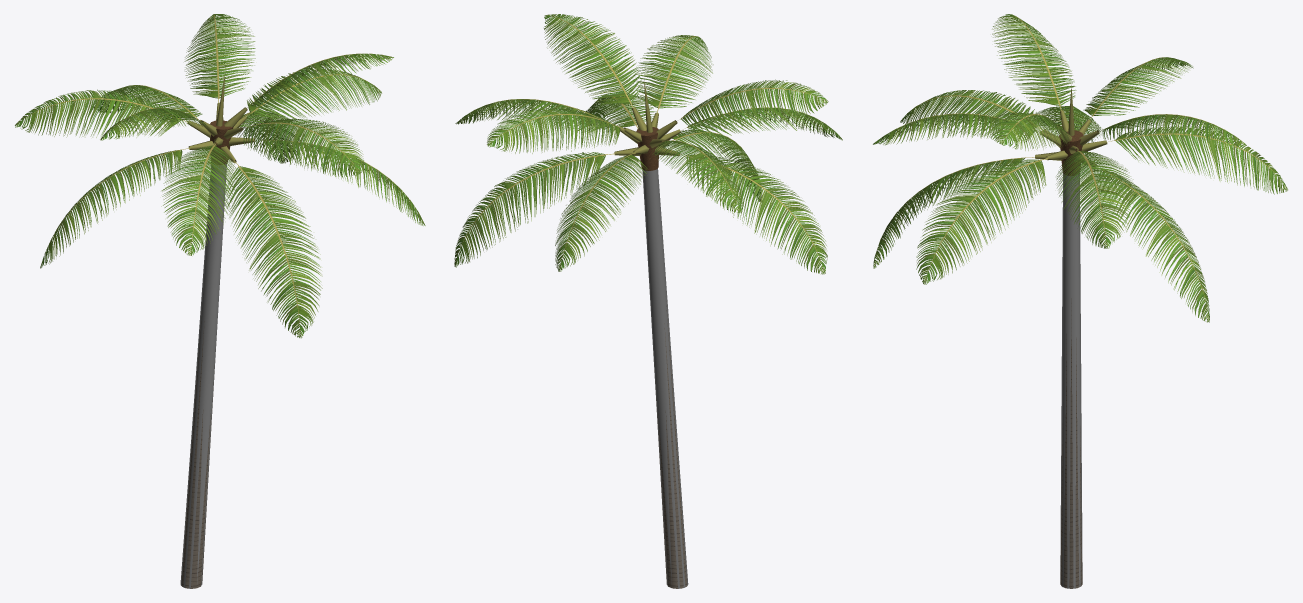
Rendered from f_kelapa_pohon_old.glb.
3 views of the same model, side by side, from view 1: azimuth 30°, elevation 25°; view 2: azimuth 150°, elevation 25°; view 3: azimuth 270°, elevation 25° (orthographic). The views are drawn at different scales.
Parts seen in each view (by area): view 1: daun, col_batang, batang, pangkal_pelepah; view 2: daun, col_batang, batang, pangkal_pelepah, serabut_pucuk; view 3: daun, col_batang, batang, pangkal_pelepah, serabut_pucuk.
Part boxes in pixels (left/top/right/bottom): daun: left=15, top=14, right=425, bottom=338; col_batang: left=180, top=164, right=226, bottom=588; batang: left=180, top=294, right=217, bottom=588; pangkal_pelepah: left=187, top=103, right=254, bottom=162; daun: left=454, top=14, right=842, bottom=274; col_batang: left=642, top=168, right=687, bottom=588; batang: left=652, top=296, right=688, bottom=588; pangkal_pelepah: left=614, top=107, right=680, bottom=155; serabut_pucuk: left=636, top=127, right=659, bottom=170; daun: left=873, top=14, right=1287, bottom=322; col_batang: left=1060, top=173, right=1082, bottom=588; batang: left=1060, top=298, right=1082, bottom=588; pangkal_pelepah: left=1035, top=110, right=1107, bottom=167; serabut_pucuk: left=1059, top=130, right=1083, bottom=175.
Size of the model in its own units: 7.22 by 9.94 by 7.08.
Materials: 5 (3 with a texture image).
